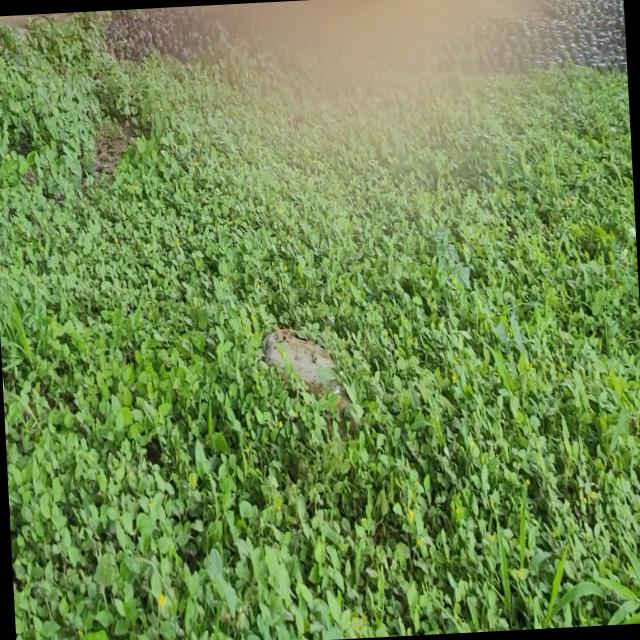grass: (0, 15, 640, 640)
stone: (262, 329, 354, 425)
